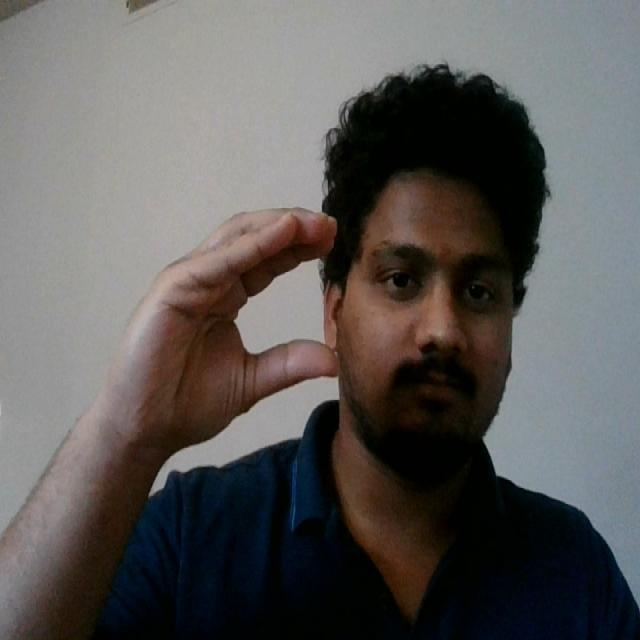No: (87, 197, 349, 465)
